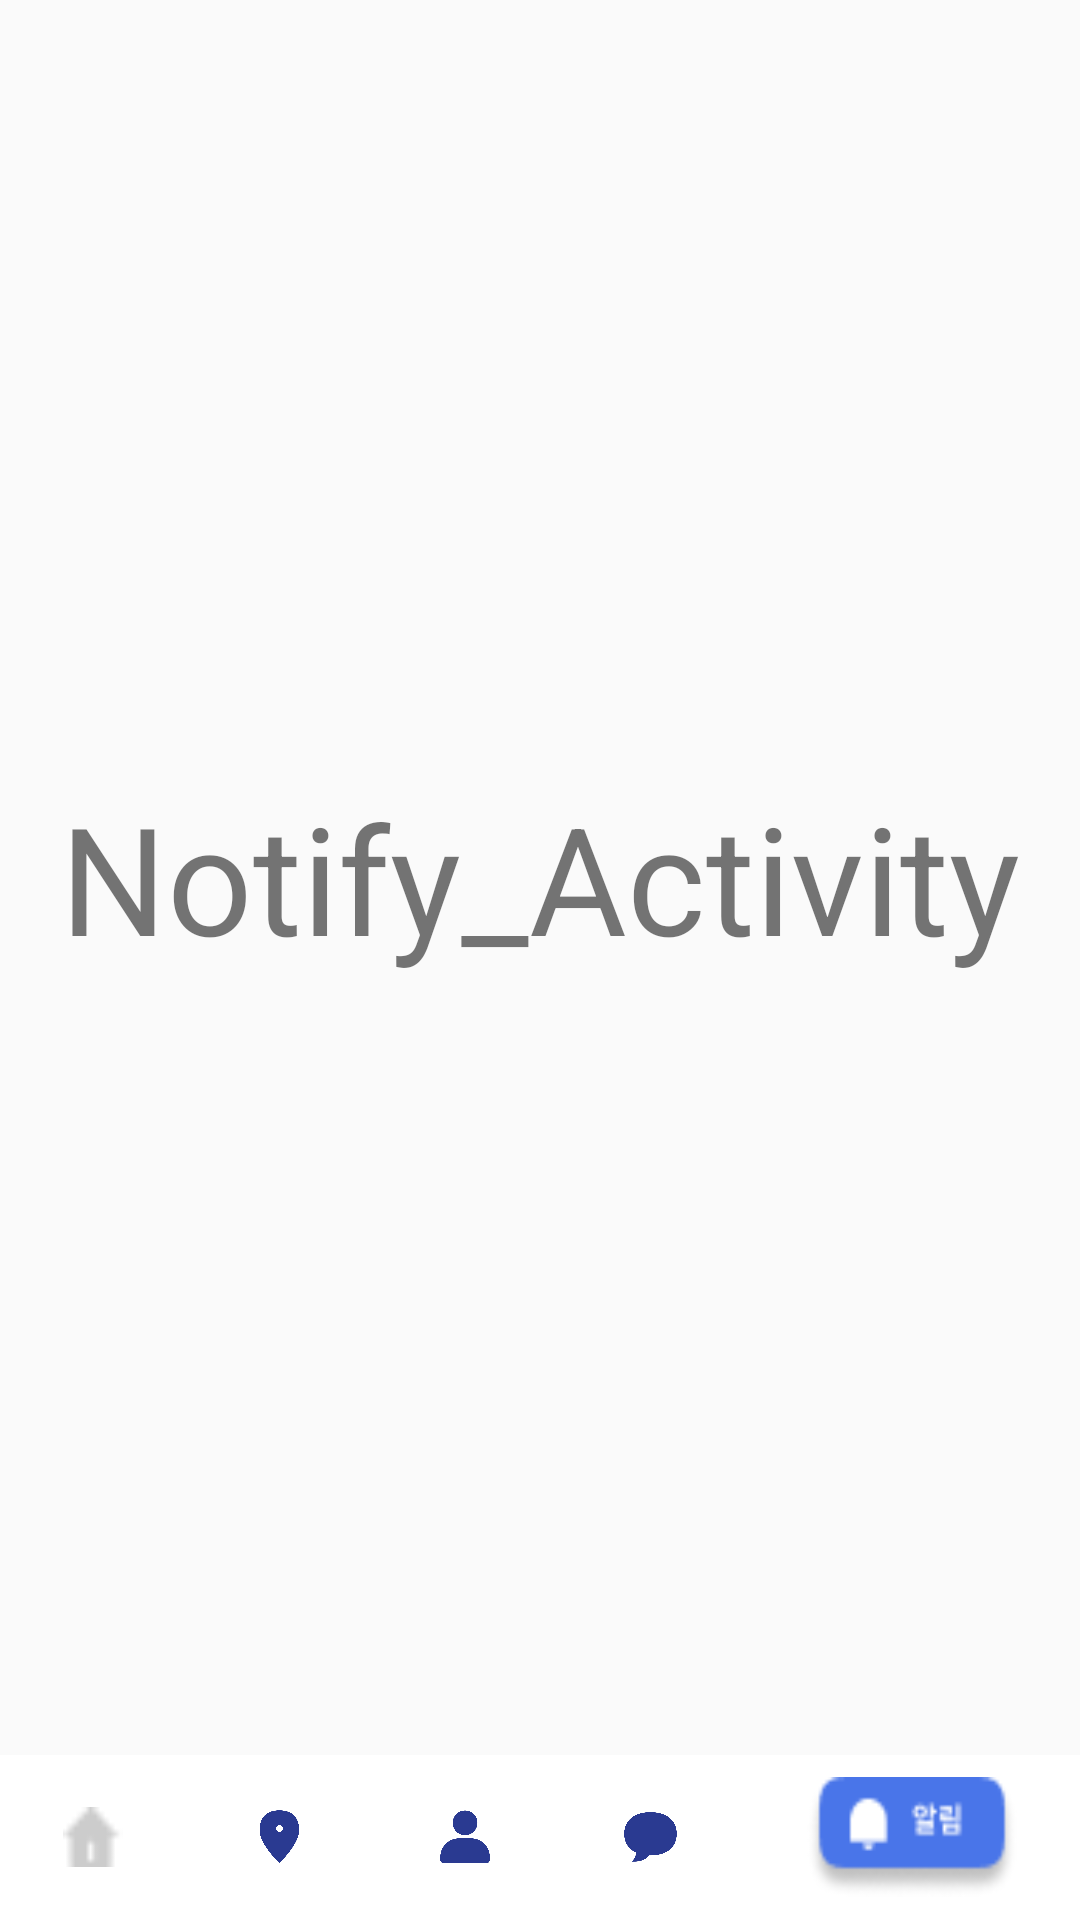

Icon bounding boxes for this 1080 × 1920 phone screenshot, format [x1,y1,x2,y2]:
main: [67,1807,116,1867]
map: [260,1810,299,1863]
message: [624,1812,677,1862]
profile: [440,1810,490,1863]
